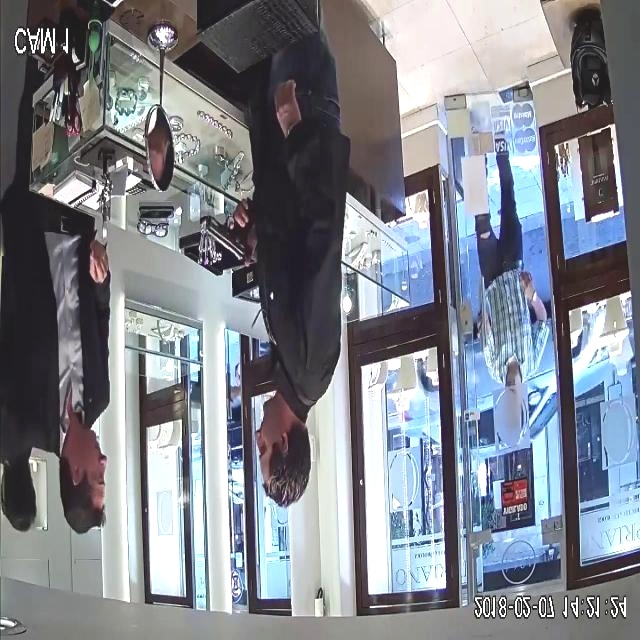gun: (196, 189, 260, 280)
